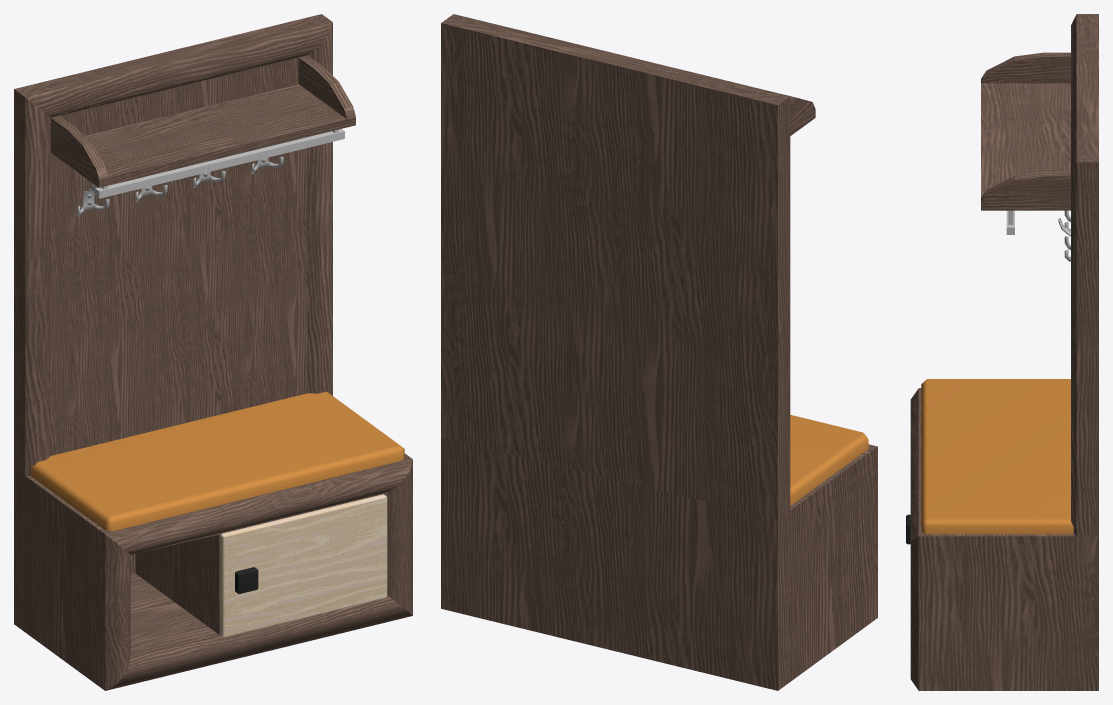
Rendered from cupboard_034.fbx.
3 renders of one model, left to right at view 1: azimuth 30°, elevation 25°; view 2: azimuth 150°, elevation 25°; view 3: azimuth 270°, elevation 25°, orthographic. The views are drawn at different scales.
Parts seen in each view (by area): view 1: cupboard_034; view 2: cupboard_034; view 3: cupboard_034.
Boxes of the visible parts, x1=… form: cupboard_034: x1=14, y1=14, x2=412, y2=690; cupboard_034: x1=441, y1=14, x2=877, y2=690; cupboard_034: x1=906, y1=14, x2=1098, y2=690.
Size of the model in its own units: 135 by 74.22 by 224.
